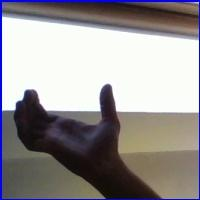space: (12, 80, 136, 172)
